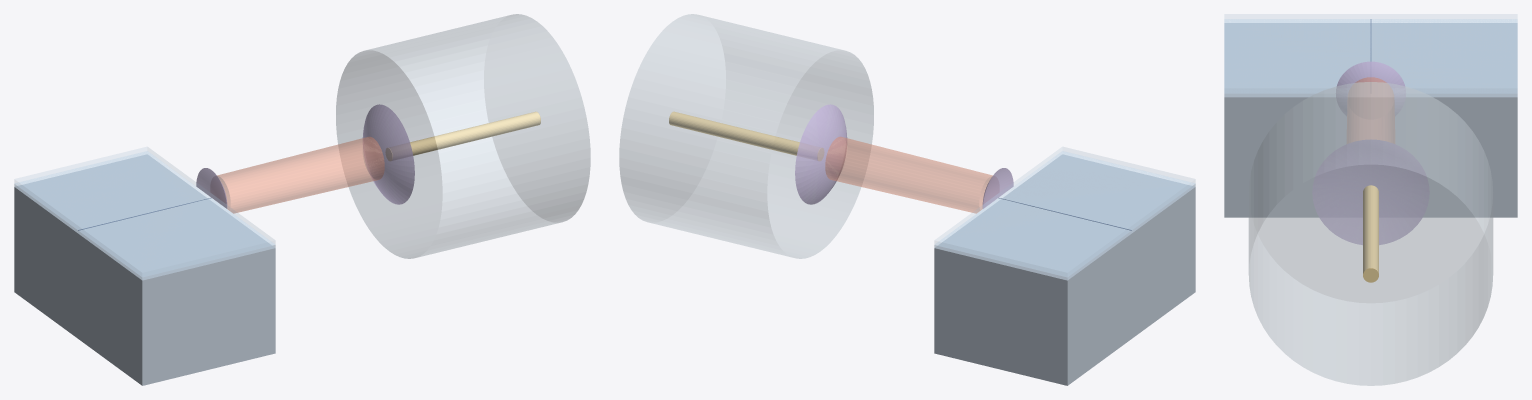
File: stack-faml.glb
The picture shows the model from 3 angles, left to right: view 1: azimuth 30°, elevation 25°; view 2: azimuth 150°, elevation 25°; view 3: azimuth 270°, elevation 25°; orthographic projection. The views are drawn at different scales.
Visible parts, largest first — view 1: fclad, sisub, cladd, box, beam, lens, fcore; view 2: fclad, sisub, cladd, box, beam, lens, fcore; view 3: fclad, sisub, cladd, box, lens, beam, fcore.
Boxes of the visible parts, bbox=[...] form: fclad: bbox=[336, 14, 590, 258]; sisub: bbox=[14, 154, 275, 385]; cladd: bbox=[14, 147, 275, 276]; box: bbox=[14, 152, 275, 280]; beam: bbox=[217, 136, 384, 213]; lens: bbox=[196, 104, 414, 208]; fcore: bbox=[385, 111, 540, 161]; fclad: bbox=[619, 14, 873, 258]; sisub: bbox=[934, 154, 1195, 385]; cladd: bbox=[934, 147, 1195, 276]; box: bbox=[934, 152, 1195, 280]; beam: bbox=[825, 136, 992, 213]; lens: bbox=[795, 104, 1013, 208]; fcore: bbox=[669, 111, 824, 161]; fclad: bbox=[1248, 82, 1493, 385]; sisub: bbox=[1224, 23, 1517, 217]; cladd: bbox=[1224, 14, 1517, 93]; box: bbox=[1224, 20, 1517, 96]; lens: bbox=[1312, 61, 1429, 244]; beam: bbox=[1347, 77, 1394, 143]; fcore: bbox=[1363, 185, 1378, 282].
Bounding box in the file's own units: 310 × 133 × 150.
